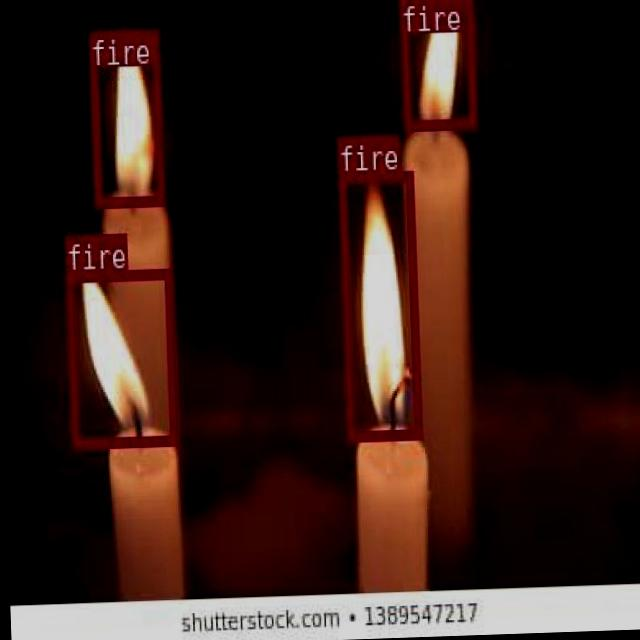fire: (338, 170, 420, 438), (64, 266, 175, 447), (88, 27, 162, 206), (398, 0, 475, 130)
